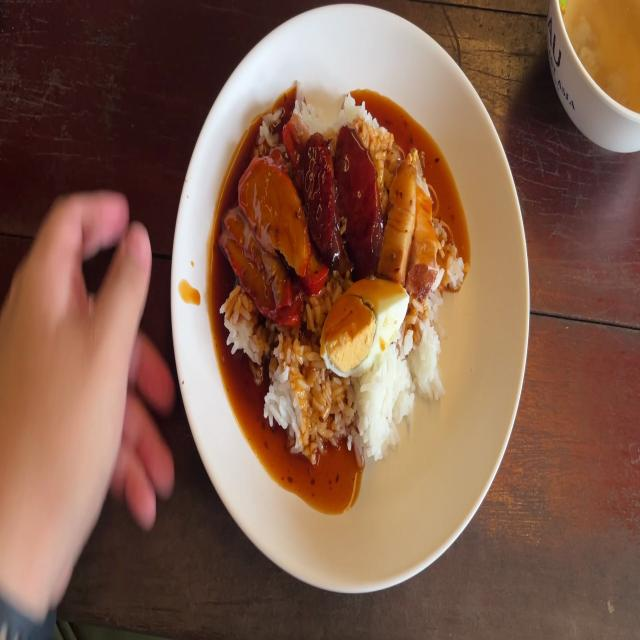01boiled_egg: (323, 275, 409, 374)
01chainese_sausage: (307, 136, 380, 270), (302, 133, 340, 256), (338, 133, 377, 248)
01crispy_pork: (379, 150, 438, 290), (386, 159, 415, 272), (411, 158, 436, 278)
01red_pork: (229, 162, 303, 310), (241, 145, 316, 262), (225, 214, 291, 320)
01red_pork_and_crispy_pork: (228, 90, 467, 463)
01rice: (270, 342, 351, 449), (359, 359, 411, 454), (334, 87, 390, 142), (412, 325, 444, 406), (224, 299, 259, 355)
